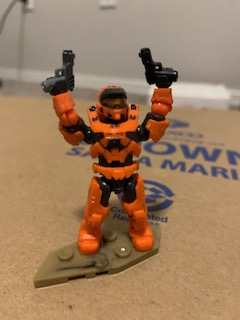pistol: (38, 48, 83, 98), (135, 45, 184, 87)
spartan: (46, 76, 175, 257)
up: (45, 76, 175, 165)
